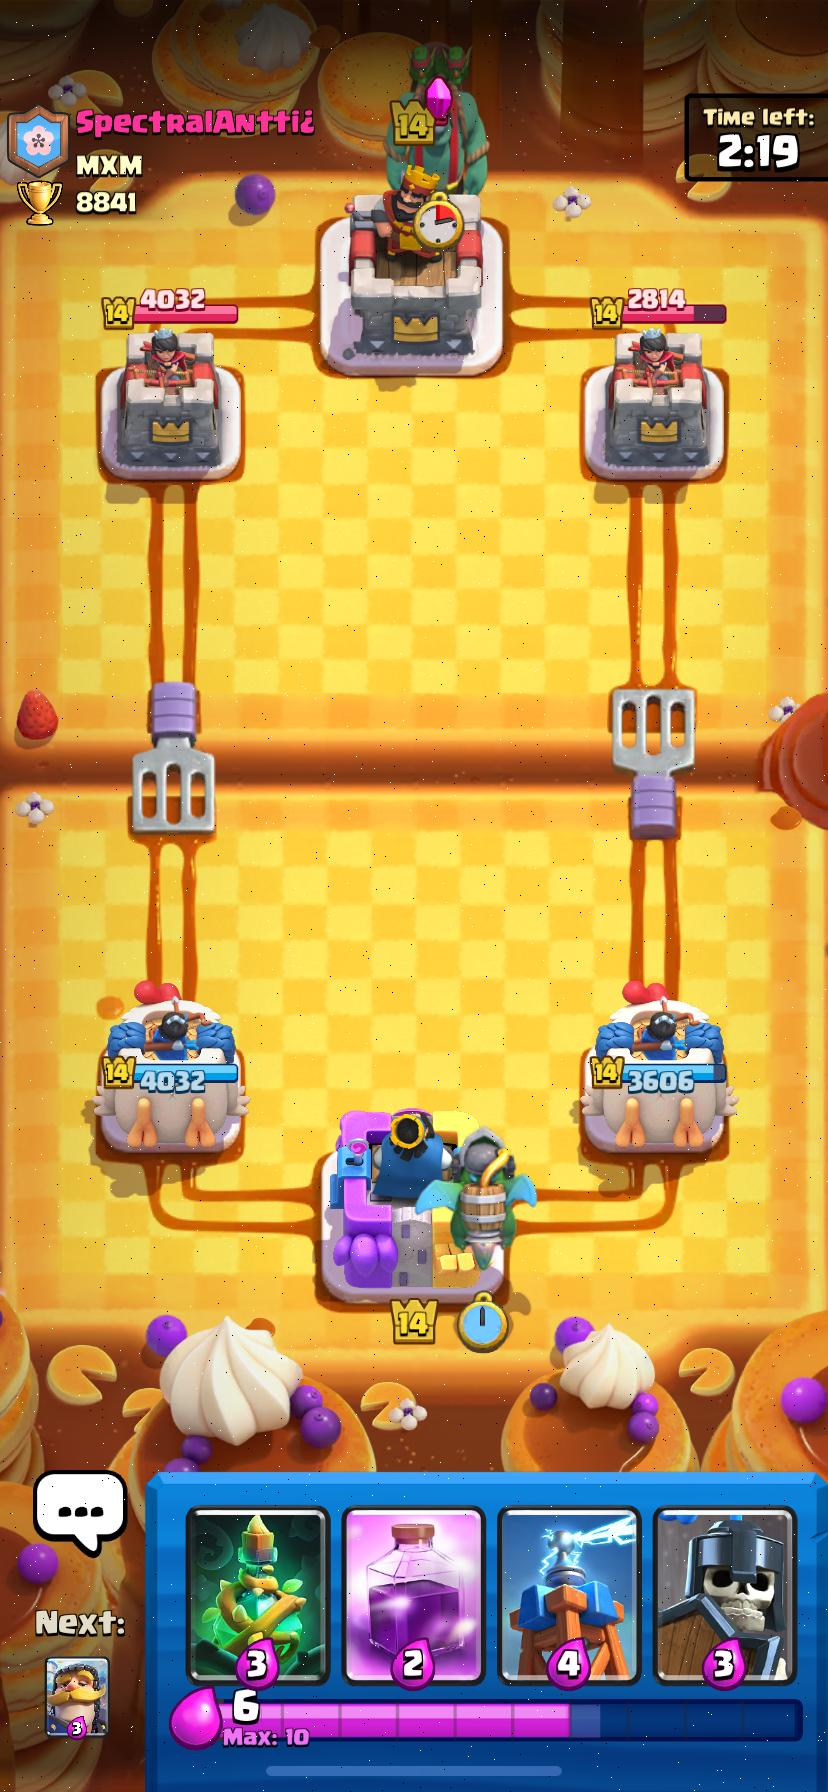EGoblinGiant: (385, 42, 487, 194)
EKingTower: (328, 169, 502, 376)
EnemyPrincessTower: (101, 327, 241, 481), (583, 329, 723, 481)
OInfernoDrag: (415, 1128, 535, 1269)
OwnKingTower: (321, 1109, 503, 1305)
OwnPrincessTower: (580, 982, 737, 1154), (93, 983, 248, 1152)
